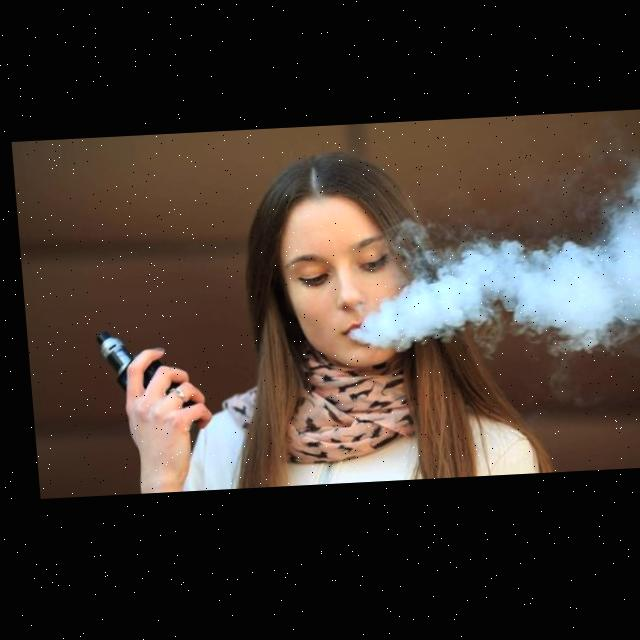vape: (90, 328, 157, 394)
